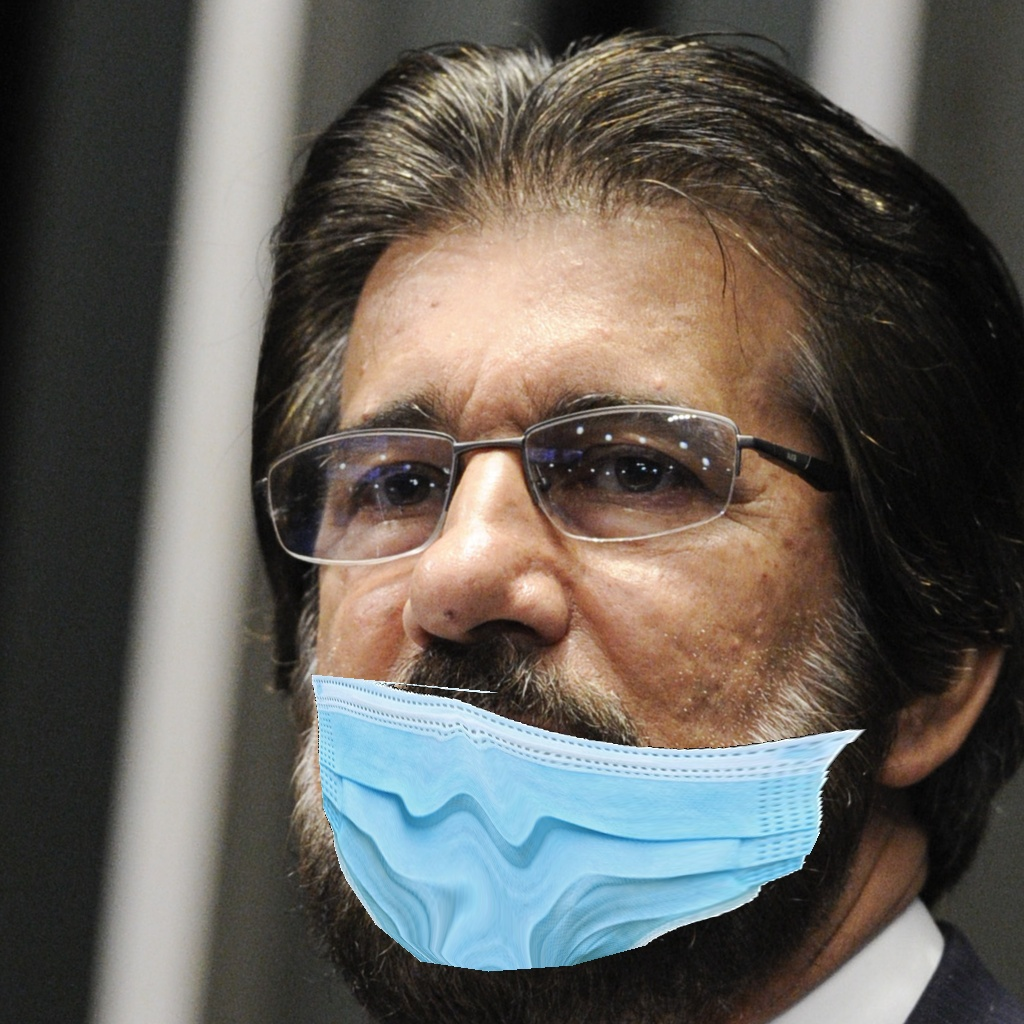mascarilla_mal_puesta: (249, 368, 882, 1008)
